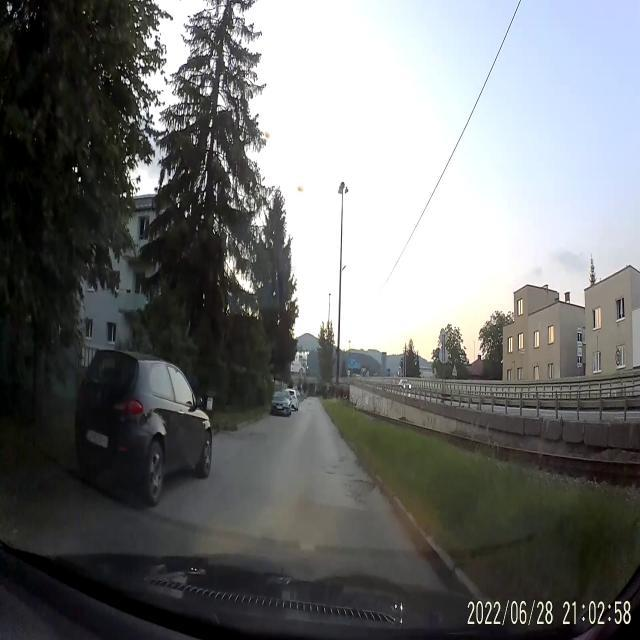Pothole: (344, 474, 376, 506), (322, 467, 337, 477)
